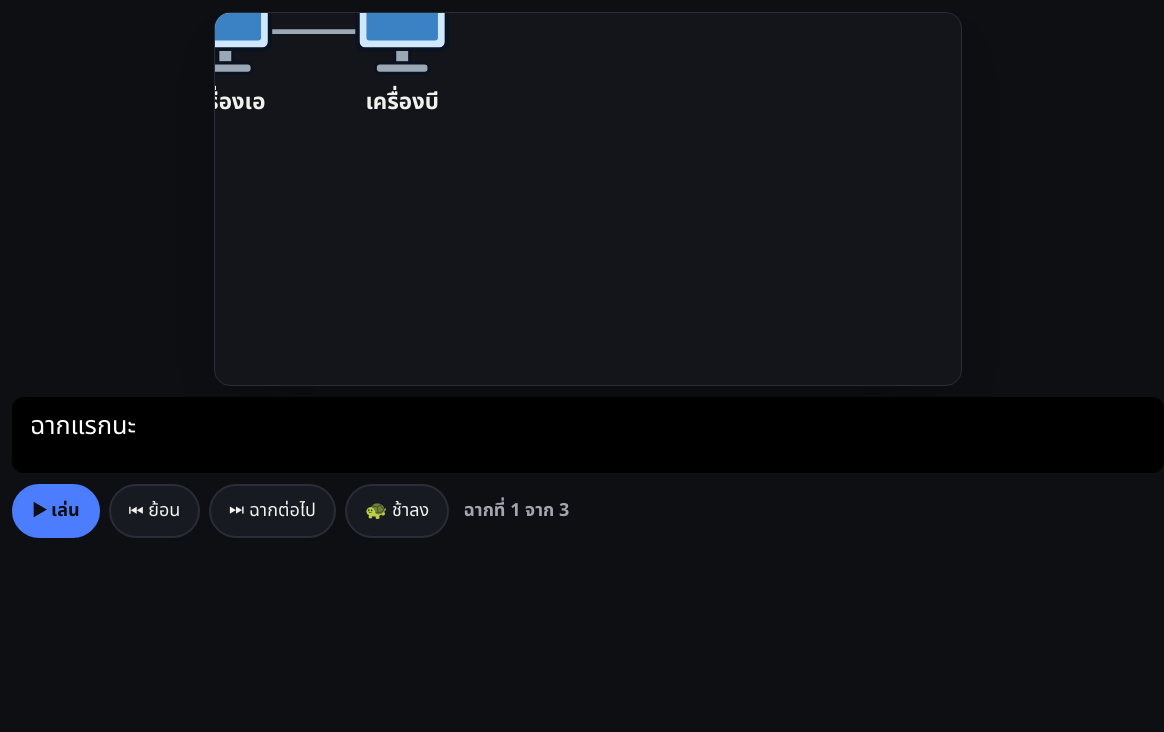
Test: ScenePlayer › play starts audio, toggles to หยุด, and pausing pauses audio
What coordinates should you click on to do the following:
click the button "▶ เล่น"
I would click on:
 (56, 511)
Its box is left=12, top=484, right=100, bottom=538.
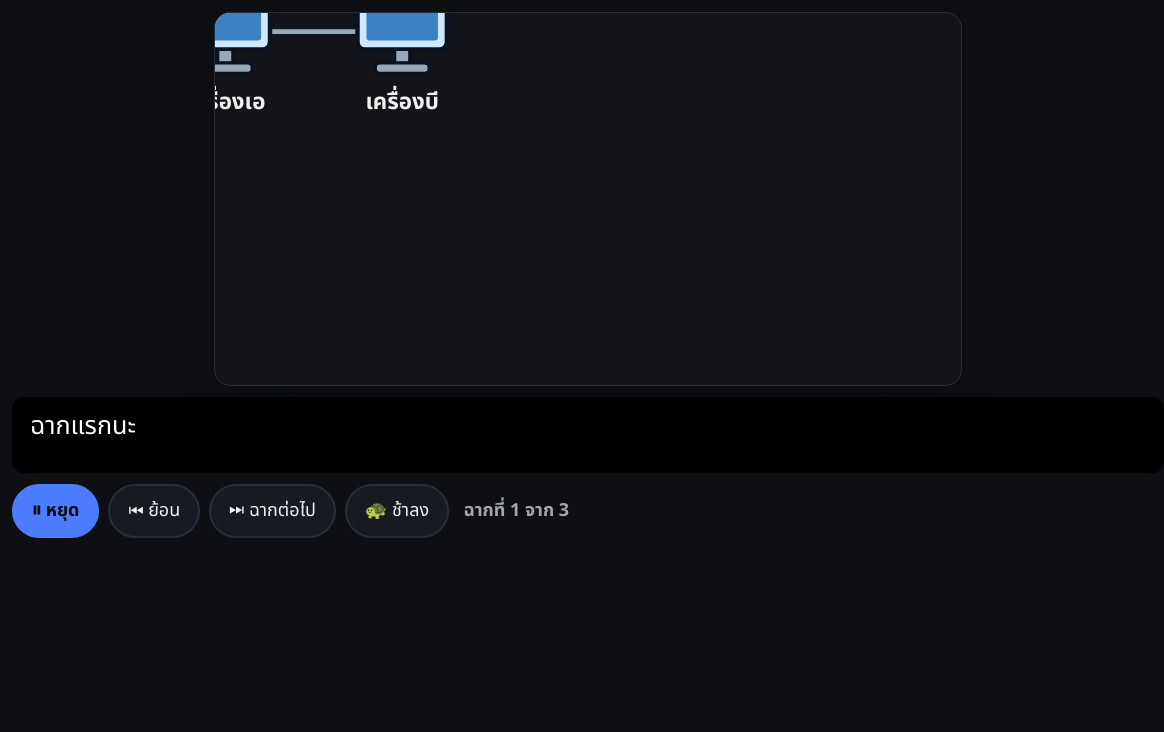
What coordinates should you click on to do the following:
click the button "⏸ หยุด"
I would click on:
 (56, 511)
Its box is left=12, top=484, right=100, bottom=538.
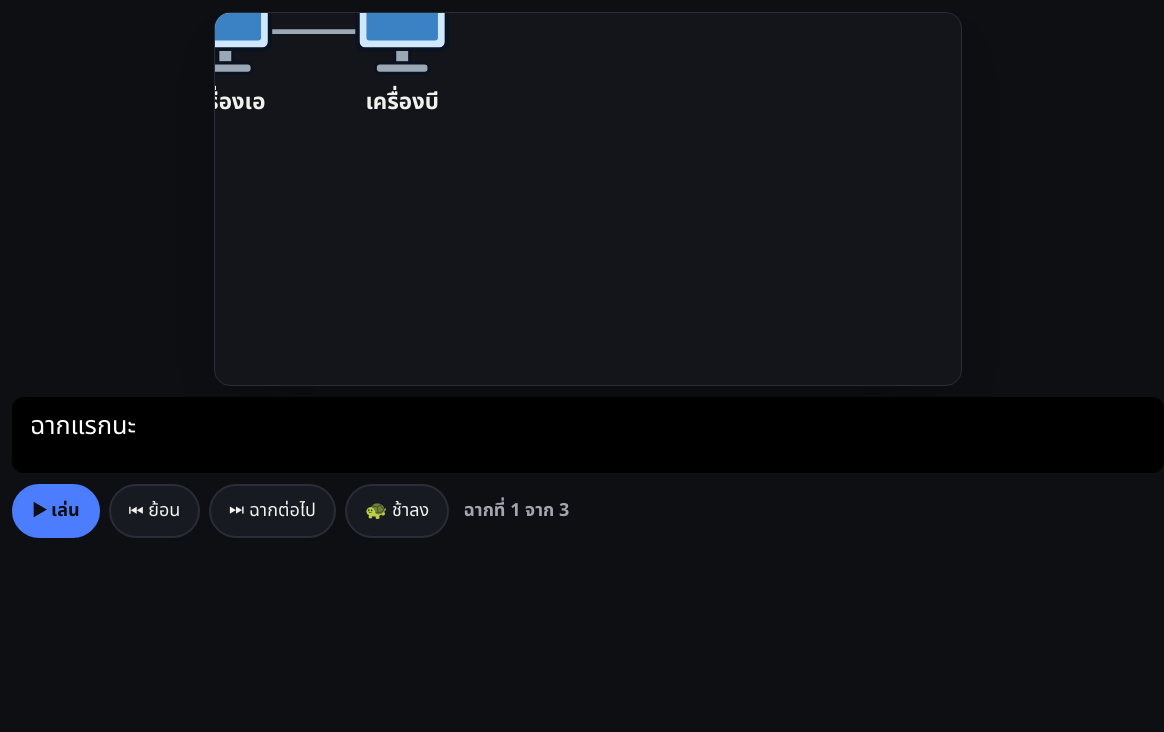
Now the button "▶ เล่น" is shown, box left=12, top=484, right=100, bottom=538
